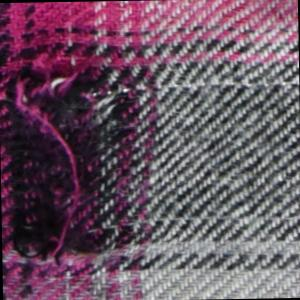Damage: (1, 52, 139, 273)
